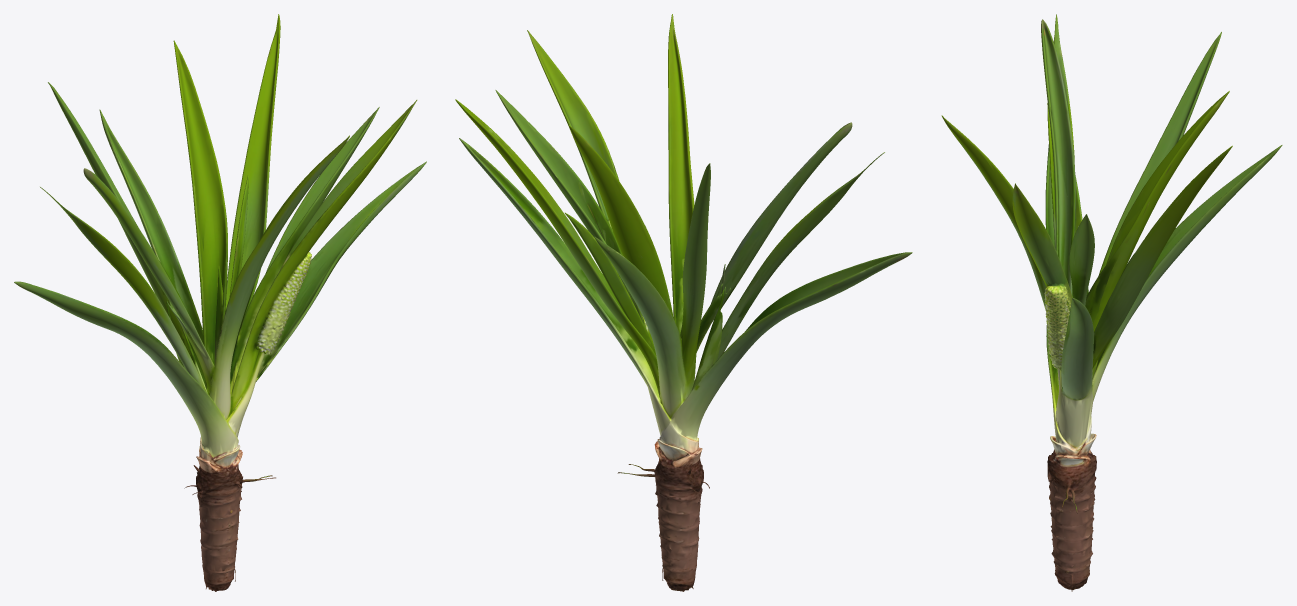
The model's file is changpu.glb.
3 renders of one model, left to right at view 1: azimuth 30°, elevation 25°; view 2: azimuth 150°, elevation 25°; view 3: azimuth 270°, elevation 25°, orthographic. The views are drawn at different scales.
Visible parts, largest first — view 1: node_0; view 2: node_0; view 3: node_0.
Boxes of the visible parts, box(x1,y1,x2,y2) form: node_0: box(14, 14, 426, 591); node_0: box(455, 14, 912, 591); node_0: box(941, 14, 1282, 591).
Bounding box in the file's own units: 0.8768 × 0.9667 × 0.5849.
Materials: 1 (1 with a texture image).
